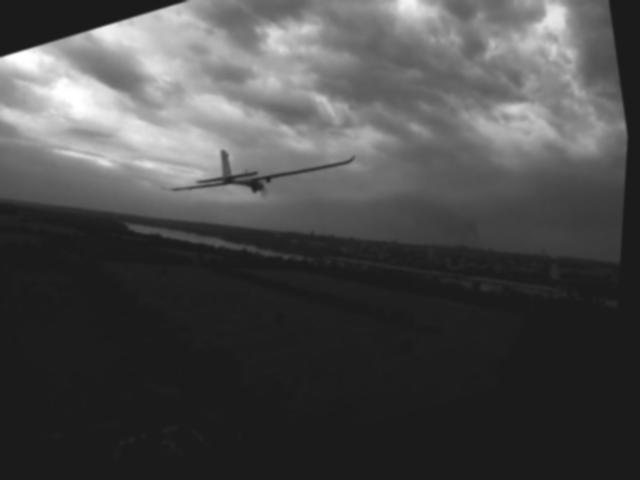hedef: (183, 131, 323, 240)
